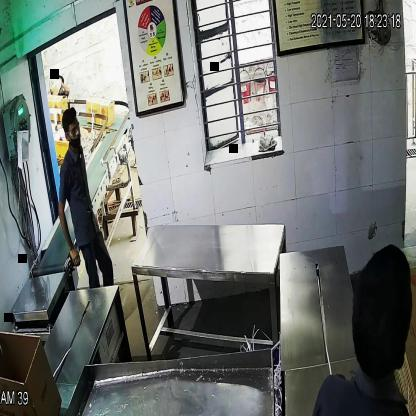goggles: (61, 124, 83, 138)
